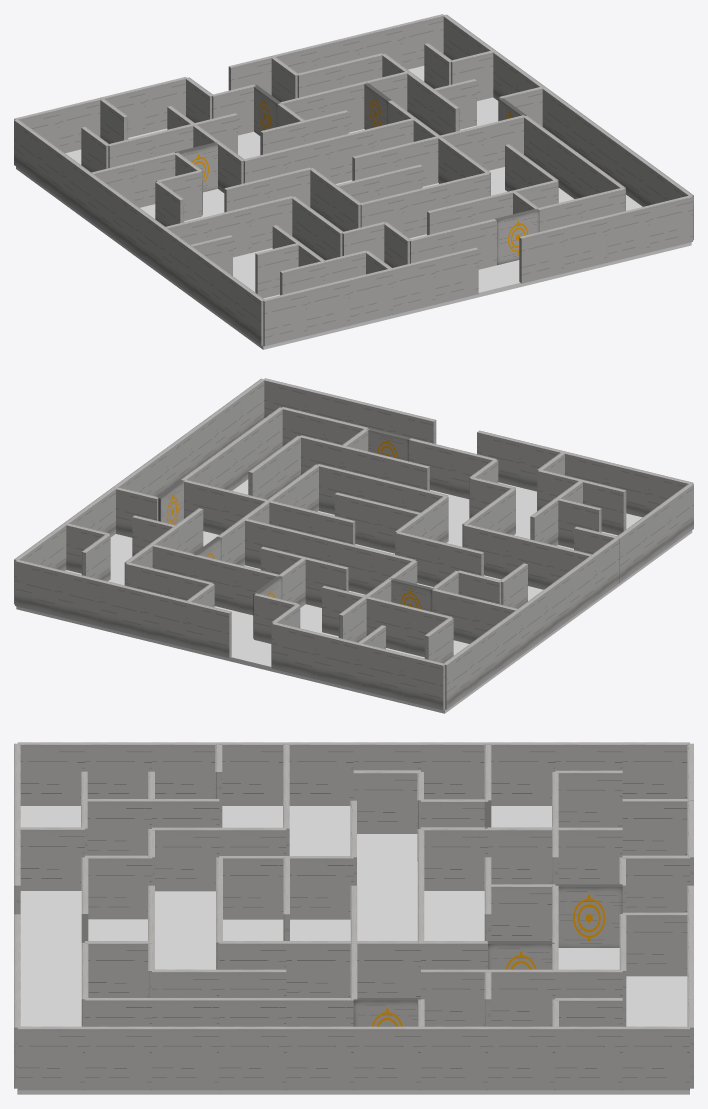
File: Maze_BlueD.fbx
3 renders of one model, top to bottom at view 1: azimuth 30°, elevation 25°; view 2: azimuth 150°, elevation 25°; view 3: azimuth 270°, elevation 25°, orthographic. The views are drawn at different scales.
Visible parts, largest first — view 1: pCube1, pCube7, pCube6, pCube2, pCube8, pCube5, pCube4, pCube10, pCube9, pCube3, pCube13, pCube67 (+94 smaller); view 2: pCube1, pCube39, pCube17, pCube15, pCube16, pCube18, pCube19, pCube13, pCube12, pCube14, pCube68, pCube116 (+90 smaller); view 3: pCube1, pCube31, pCube36, pCube29, pCube30, pCube32, pCube35, pCube37, pCube38, pCube34, pCube33, pCube27 (+46 smaller).
Part boxes in pixels (left/top/right/bottom): pCube1: left=16, top=66, right=691, bottom=349; pCube7: left=519, top=226, right=564, bottom=283; pCube6: left=262, top=289, right=307, bottom=346; pCube2: left=433, top=247, right=478, bottom=304; pCube8: left=562, top=216, right=607, bottom=273; pCube5: left=305, top=279, right=350, bottom=335; pCube4: left=348, top=268, right=392, bottom=325; pCube10: left=648, top=195, right=692, bottom=252; pCube9: left=605, top=206, right=649, bottom=262; pCube3: left=392, top=258, right=435, bottom=314; pCube13: left=400, top=14, right=444, bottom=69; pCube67: left=249, top=196, right=292, bottom=252; pCube1: left=16, top=479, right=692, bottom=713; pCube39: left=186, top=602, right=231, bottom=658; pCube17: left=400, top=653, right=445, bottom=710; pCube15: left=100, top=580, right=145, bottom=637; pCube16: left=143, top=591, right=187, bottom=647; pCube18: left=357, top=643, right=402, bottom=699; pCube19: left=314, top=632, right=358, bottom=689; pCube13: left=15, top=559, right=59, bottom=616; pCube12: left=272, top=622, right=316, bottom=678; pCube14: left=58, top=570, right=102, bottom=626; pCube68: left=506, top=534, right=551, bottom=589; pCube116: left=365, top=596, right=409, bottom=652; pCube1: left=17, top=806, right=689, bottom=1094; pCube31: left=219, top=1026, right=286, bottom=1090; pCube36: left=555, top=1026, right=622, bottom=1090; pCube29: left=85, top=1026, right=152, bottom=1090; pCube30: left=286, top=1026, right=353, bottom=1090; pCube32: left=152, top=1026, right=219, bottom=1090; pCube35: left=488, top=1026, right=555, bottom=1090; pCube37: left=622, top=1026, right=689, bottom=1090; pCube38: left=421, top=1026, right=488, bottom=1090; pCube34: left=353, top=1026, right=420, bottom=1090; pCube33: left=18, top=1026, right=85, bottom=1090; pCube27: left=286, top=742, right=353, bottom=805.
Size of the model in its own units: 101 by 10.97 by 101.
3 materials, 2 textured.
